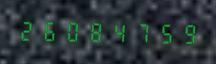eight: (83, 19, 104, 43)
five: (149, 20, 170, 45)
four: (105, 19, 126, 44)
nine: (171, 21, 192, 45)
seven: (127, 20, 148, 44)
six: (39, 18, 60, 43)
two: (17, 18, 38, 42)
zero: (61, 19, 82, 43)
